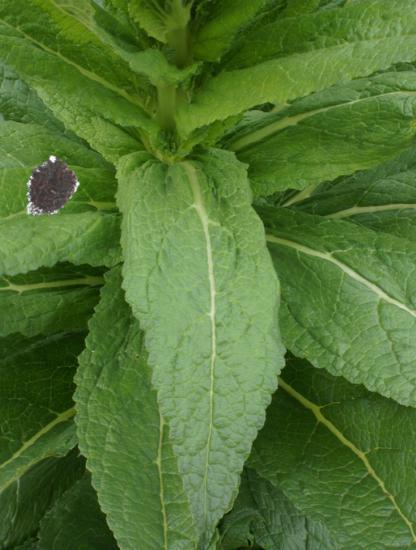Rambutan: (17, 154, 86, 223)
